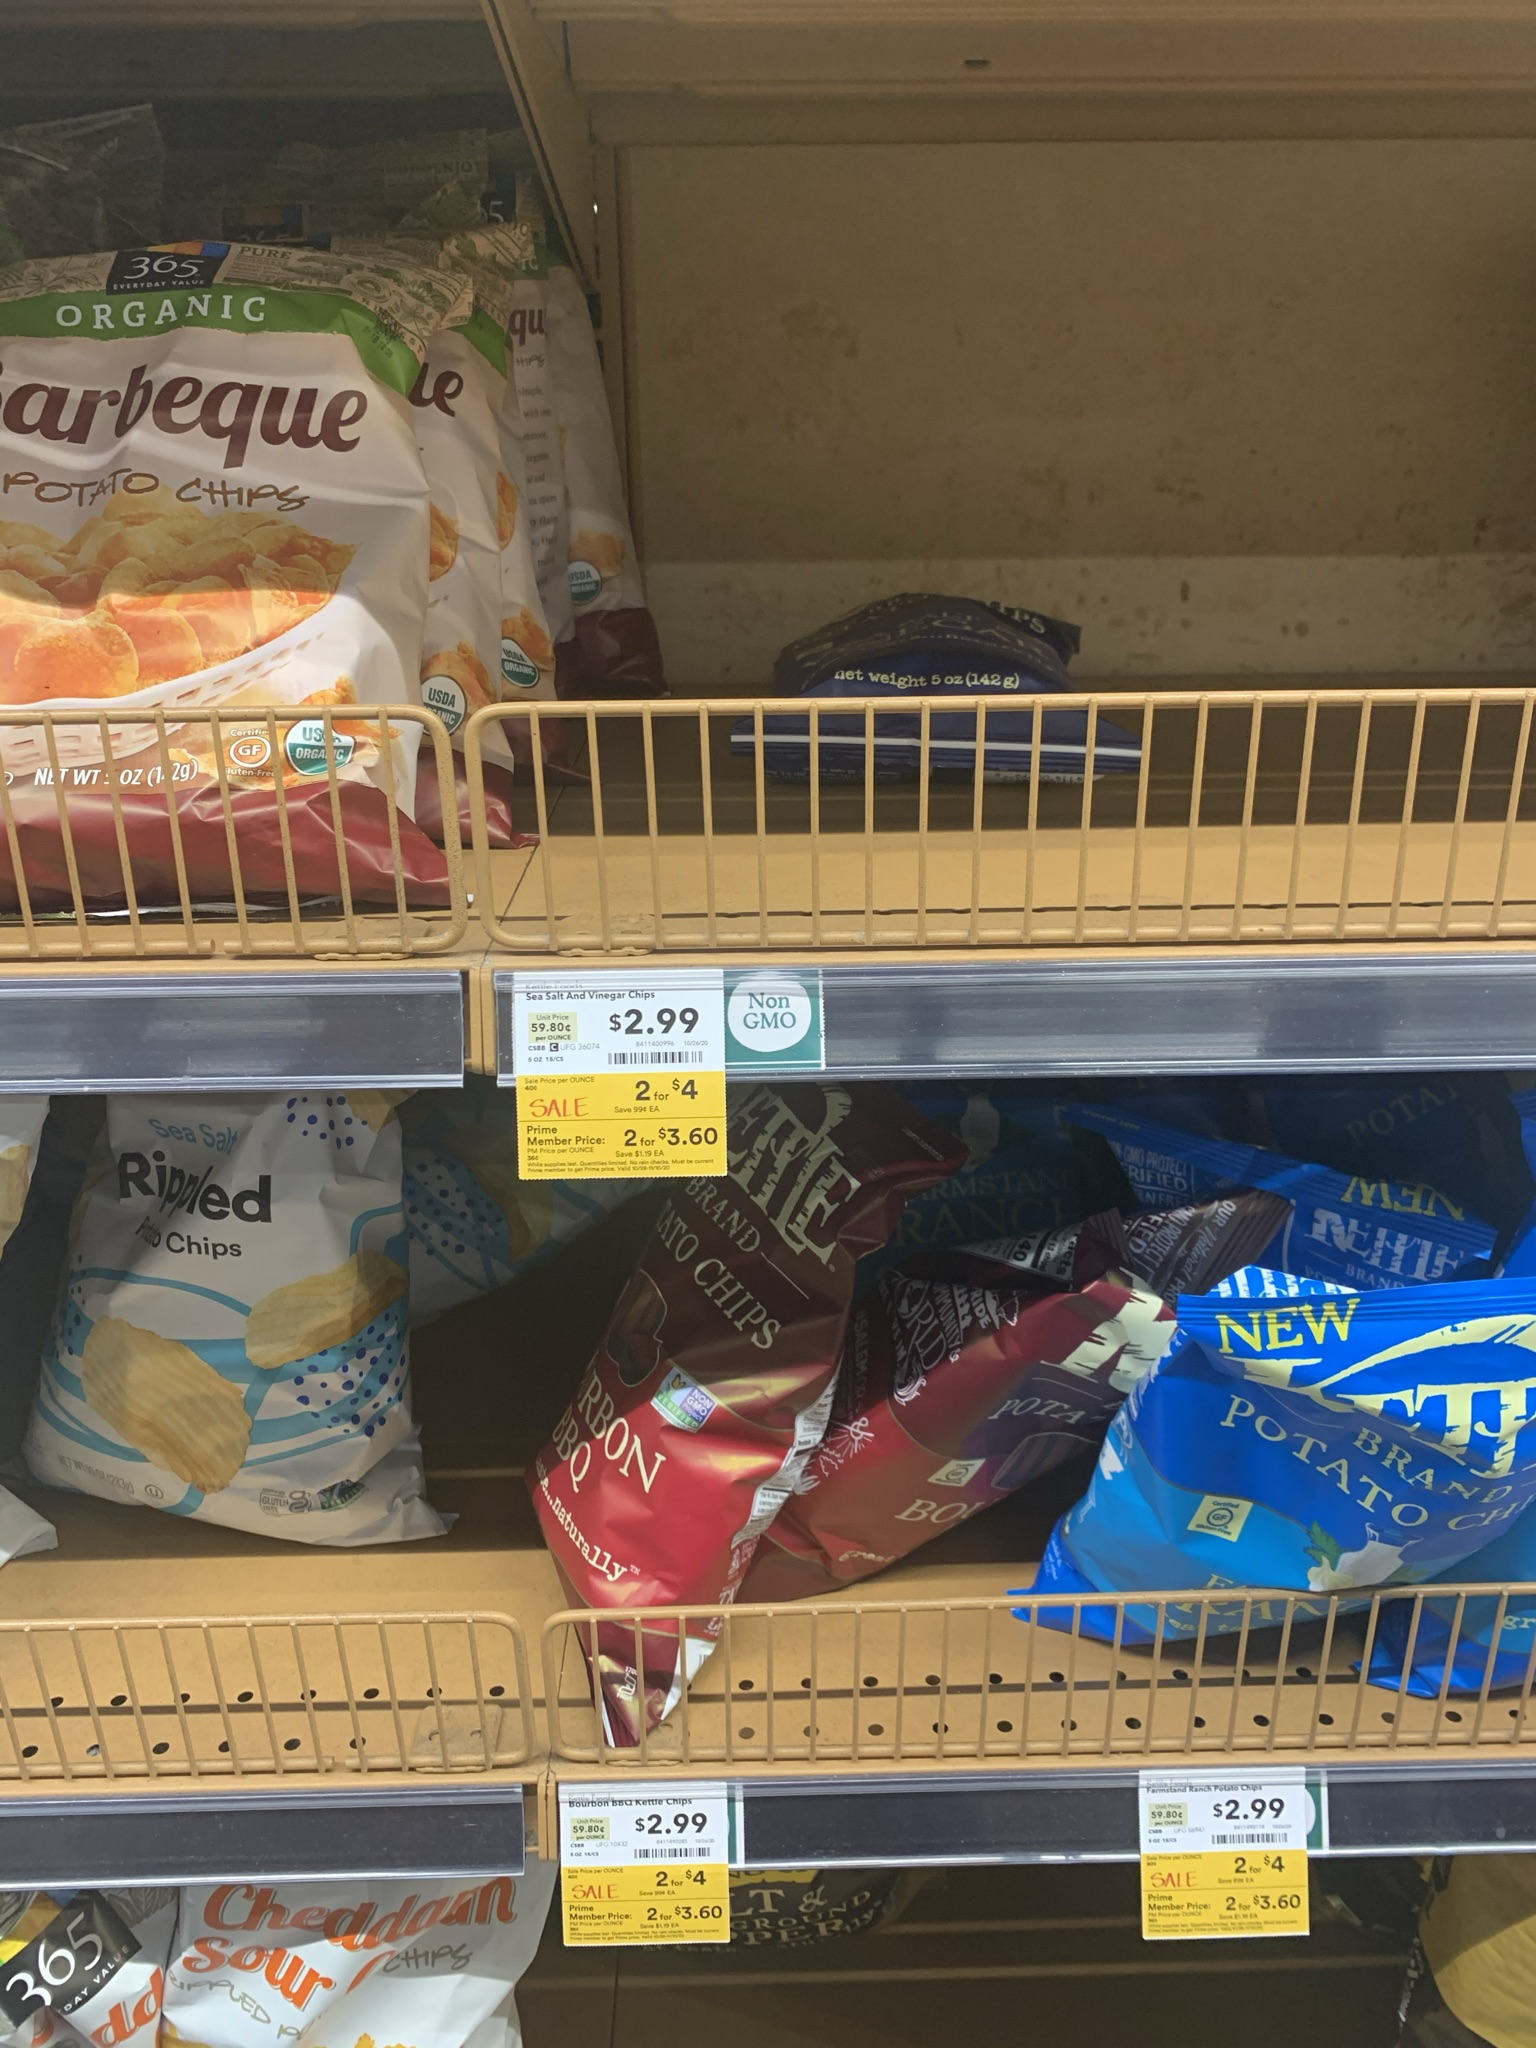kettle chips: (552, 1109, 739, 1751)
organic chips: (39, 274, 408, 856)
ripples chips: (106, 1116, 407, 1530)
